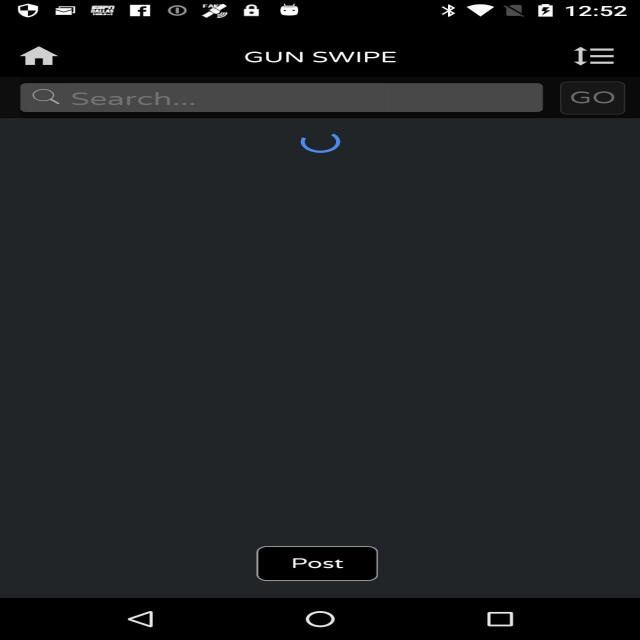button: (148, 536, 471, 594)
icon: (574, 35, 636, 80)
image: (19, 118, 626, 533), (24, 33, 81, 79)
text: (202, 40, 463, 76)
